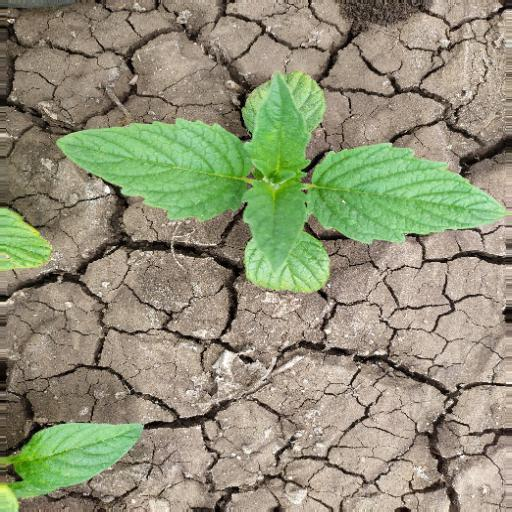crop: (62, 68, 504, 302)
